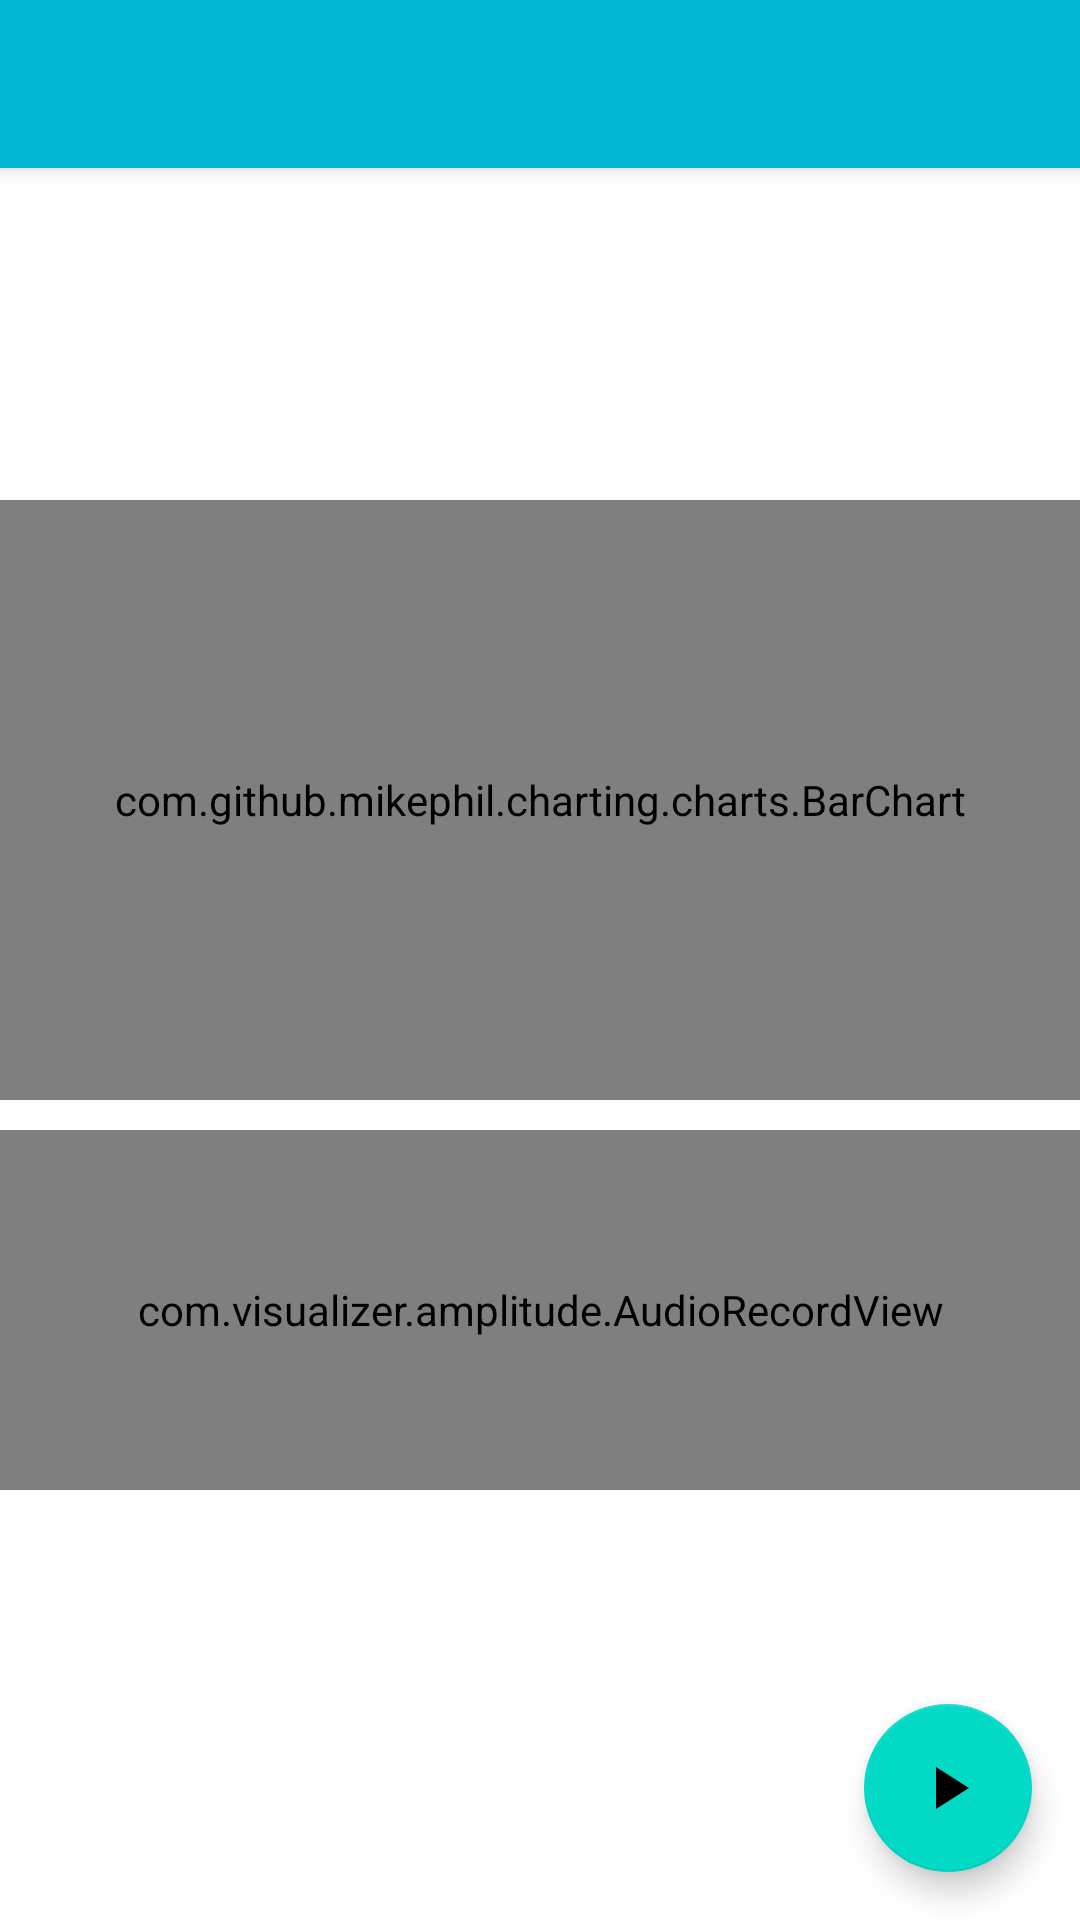

Named icons in this screenshot (1080w x 1920h) and their bounding boxes, (x1, y1, x2, y2):
play arrow: (864, 1704, 1032, 1872)
